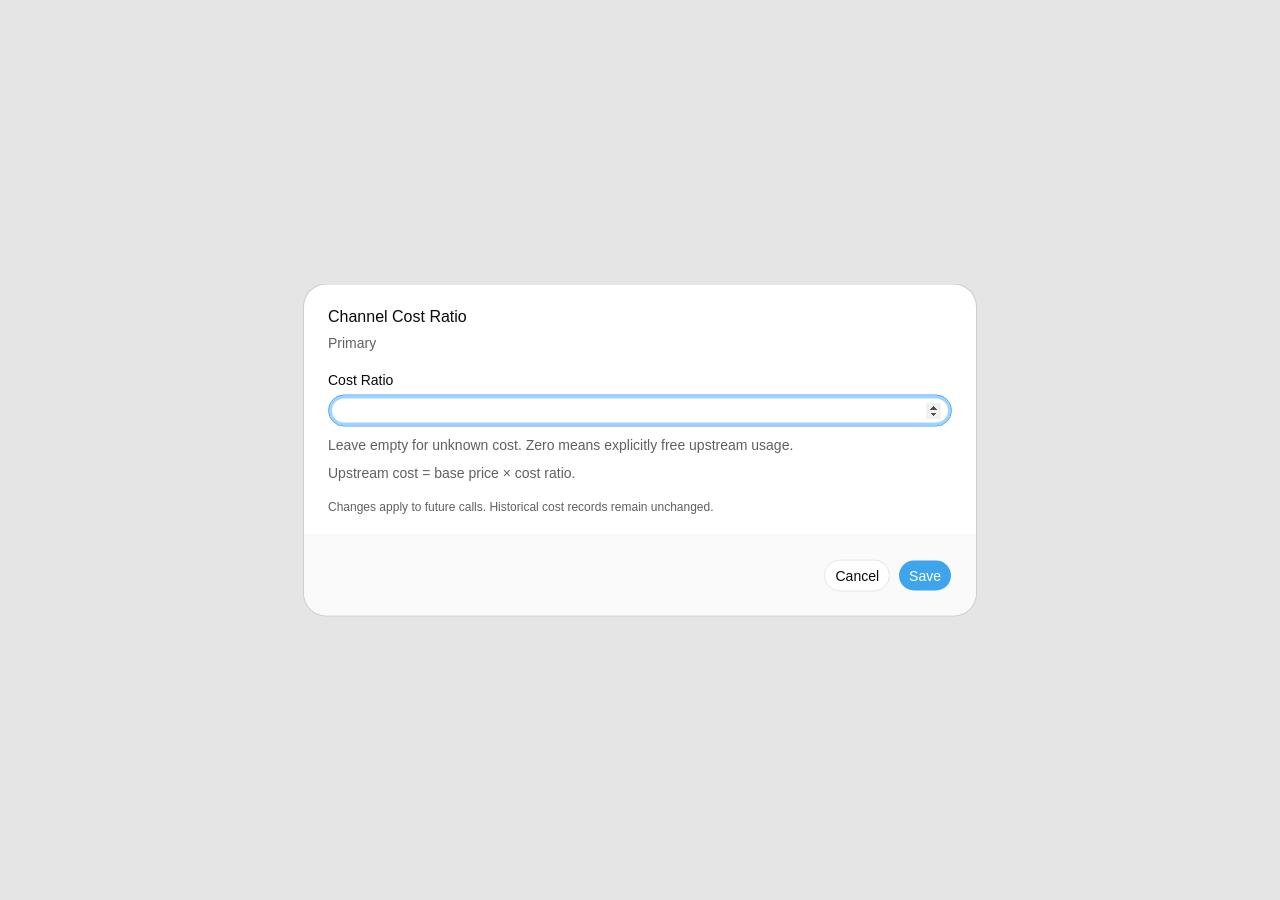
Test: upstream procurement metadata › invalid channel cost sends no request and business failure preserves the editor
Type "-1" into the number field labelled "Cost Ratio" at (640, 410), box 328,394 -> 952,426
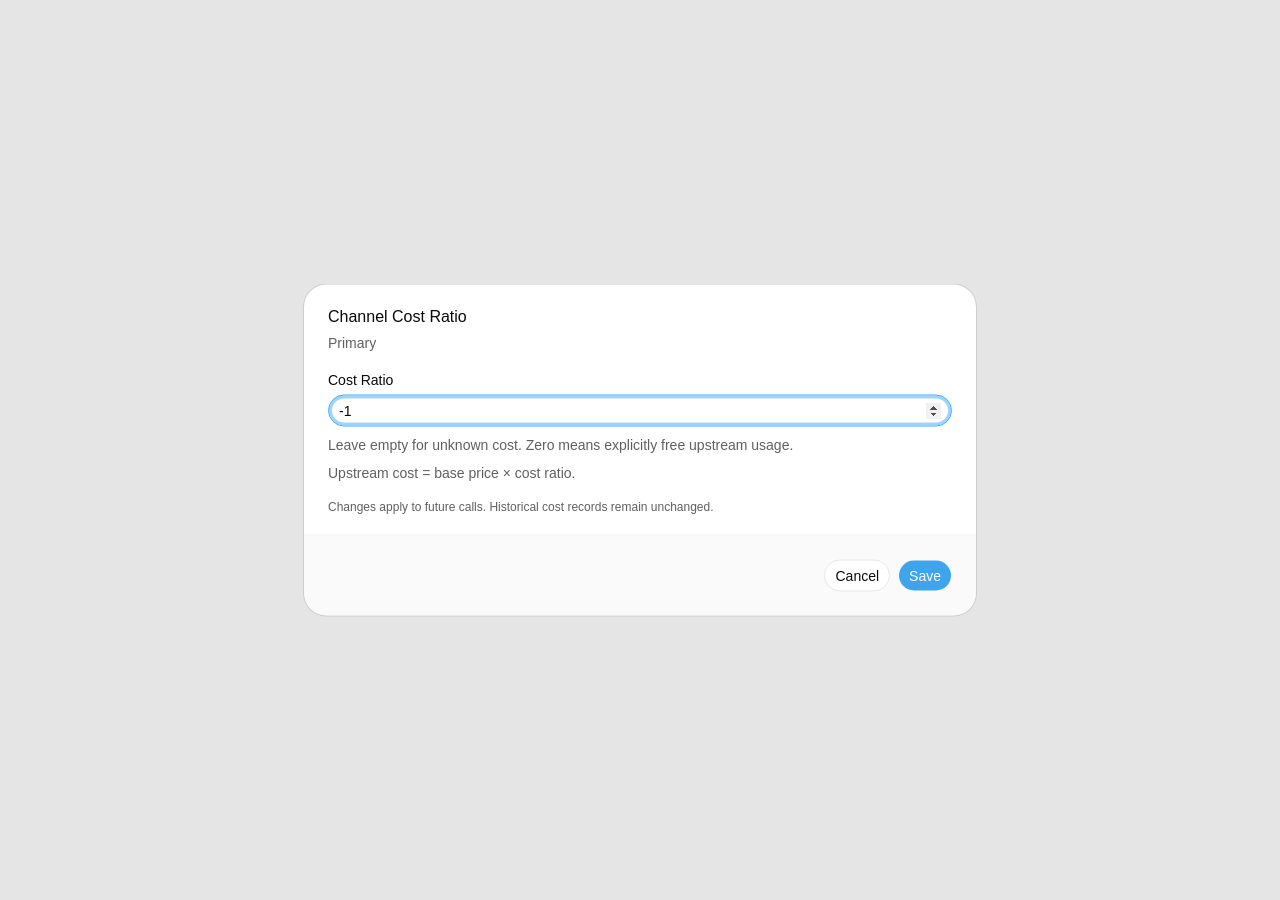
Click the button "Save" at (925, 576), box 898,560 -> 952,592
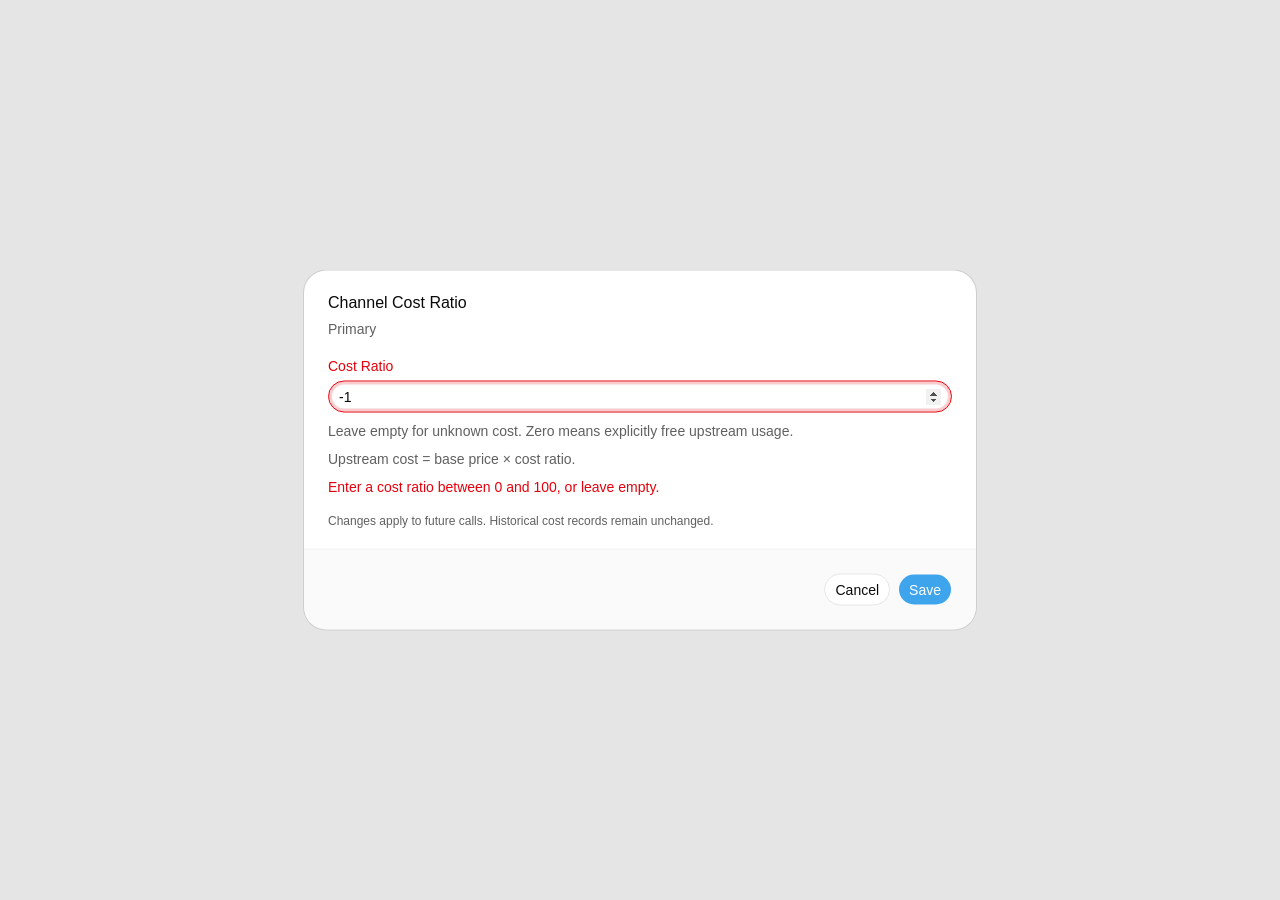
Check: the text "Enter a cost ratio between 0 and 100, or leave empty." is shown, box 328,478 -> 659,494
Clear the number field labelled "Cost Ratio" at (640, 396), box 328,380 -> 952,412
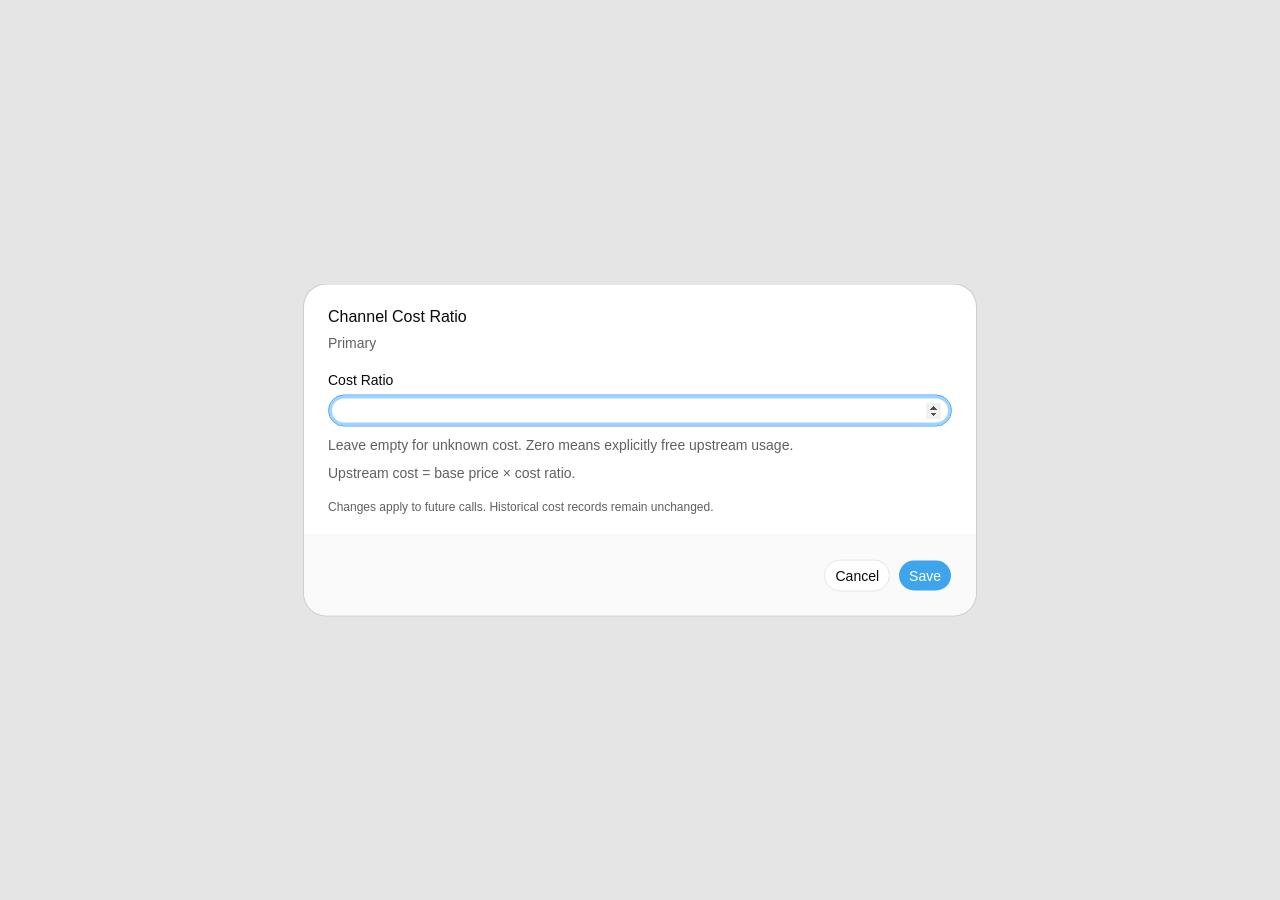
Click the button "Save" at (925, 576), box 898,560 -> 952,592
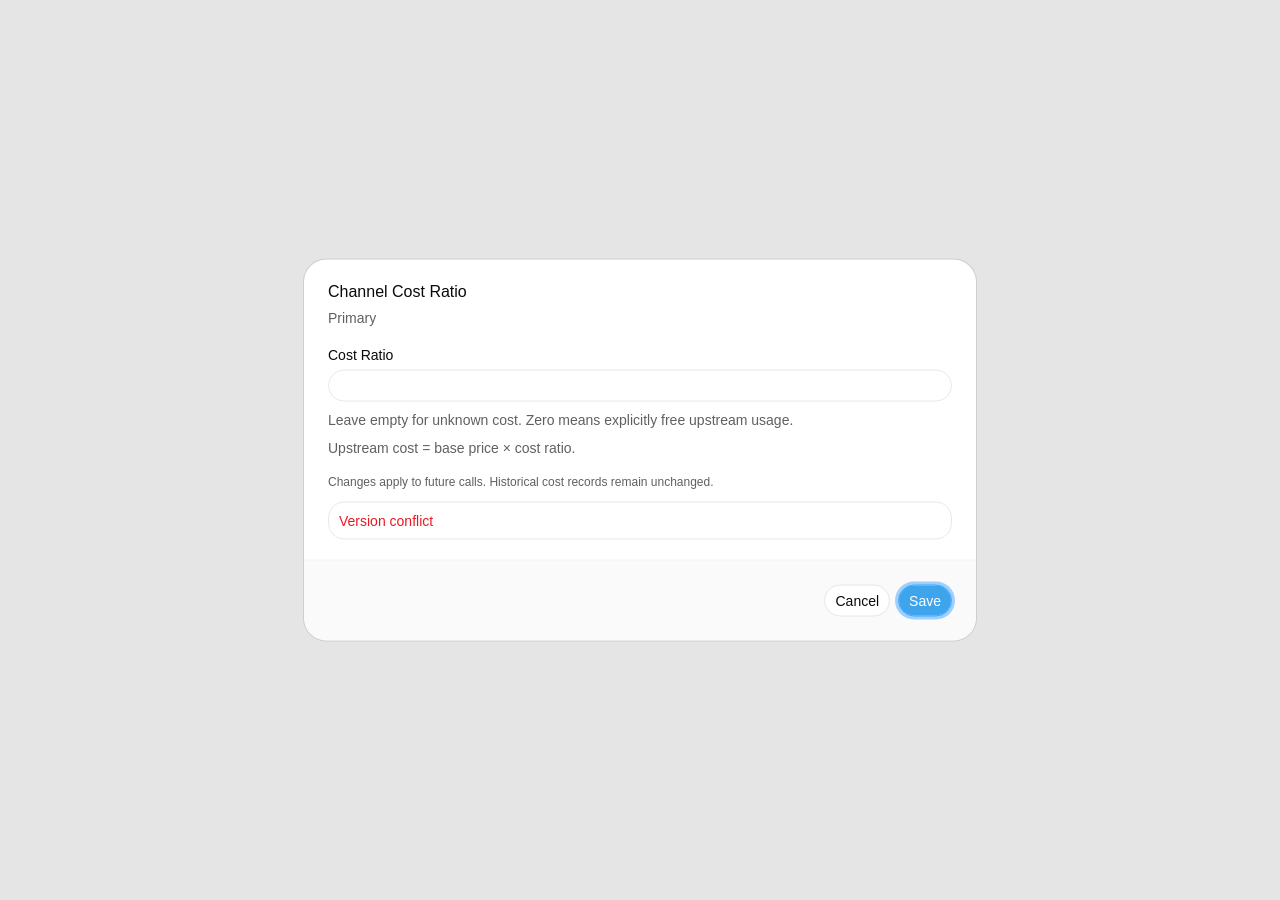
Check: the dialog is shown, box 304,260 -> 976,640
Check: the message reads "Version conflict", box 339,512 -> 433,528
